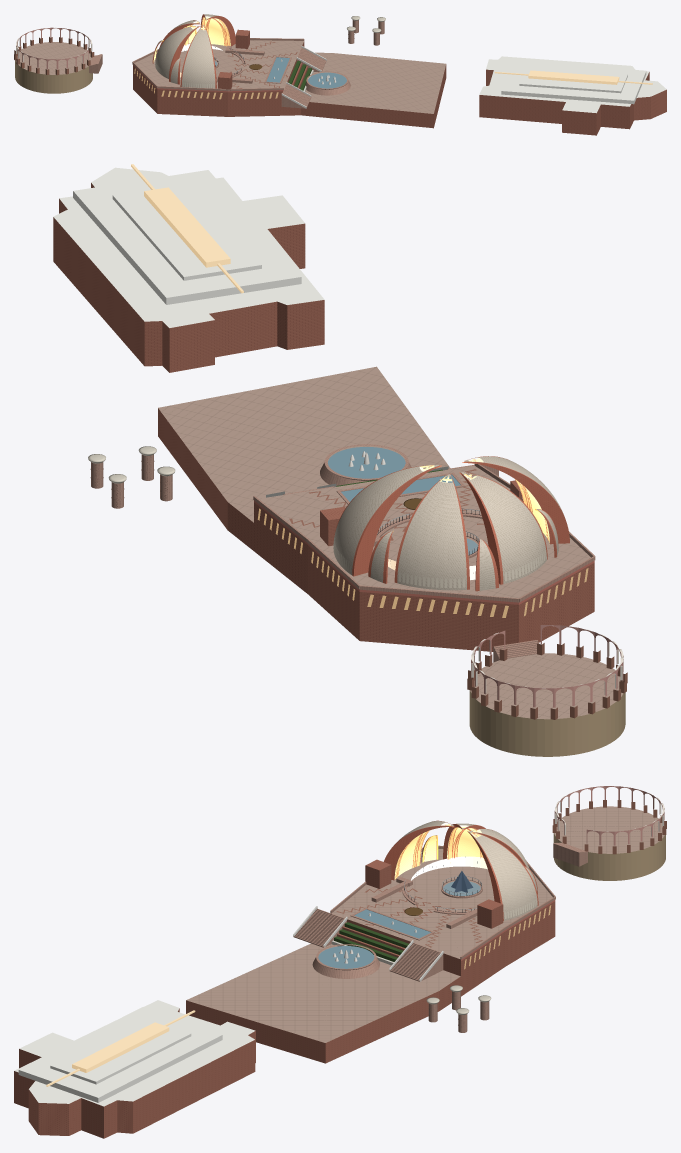
File: pakistan_monument.glb
3 views of the same model, one above another, from view 1: azimuth 30°, elevation 25°; view 2: azimuth 150°, elevation 25°; view 3: azimuth 270°, elevation 25° (orthographic). The views are drawn at different scales.
Parts seen in each view (by area): view 1: m_deck_paving, m_podium_brick, m_museum_roof, m_museum_wall, m_granite_pink, m_petal_back, m_overlook_stone, m_petal_brick, m_museum_glass, m_water, m_overlook_pier, m_petal_mural (+9 smaller); view 2: m_deck_paving, m_museum_roof, m_podium_brick, m_petal_back, m_museum_wall, m_overlook_stone, m_petal_brick, m_granite_pink, m_museum_glass, m_water, m_overlook_pier, m_overlook_arch (+4 smaller); view 3: m_deck_paving, m_museum_roof, m_podium_brick, m_museum_wall, m_granite_pink, m_petal_back, m_overlook_stone, m_water, m_petal_brick, m_museum_glass, m_petal_mural, m_hedge (+6 smaller).
Part boxes in pixels (x1,y1,x2,y2): m_deck_paving: (16, 40, 445, 113); m_podium_brick: (133, 29, 446, 128); m_museum_roof: (479, 56, 666, 113); m_museum_wall: (479, 69, 666, 135); m_granite_pink: (89, 23, 384, 108); m_petal_back: (155, 14, 218, 88); m_overlook_stone: (15, 60, 92, 93); m_petal_brick: (152, 14, 235, 88); m_museum_glass: (494, 70, 652, 84); m_water: (266, 57, 346, 88); m_overlook_pier: (14, 37, 94, 75); m_petal_mural: (153, 18, 230, 62); m_deck_paving: (158, 366, 623, 719); m_museum_roof: (53, 167, 324, 327); m_podium_brick: (158, 408, 594, 651); m_petal_back: (333, 456, 563, 590); m_museum_wall: (53, 183, 324, 372); m_overlook_stone: (469, 690, 625, 756); m_petal_brick: (334, 456, 569, 591); m_granite_pink: (90, 444, 595, 662); m_museum_glass: (131, 164, 243, 293); m_water: (328, 447, 460, 501); m_overlook_pier: (467, 643, 627, 719); m_overlook_arch: (471, 625, 623, 707); m_deck_paving: (186, 806, 664, 1042); m_museum_roof: (14, 1000, 255, 1106); m_podium_brick: (186, 859, 555, 1063); m_museum_wall: (14, 1008, 255, 1138); m_granite_pink: (293, 842, 587, 1027); m_petal_back: (397, 821, 537, 920); m_overlook_stone: (553, 833, 665, 880); m_water: (318, 909, 430, 968); m_petal_brick: (384, 820, 538, 920); m_museum_glass: (46, 1010, 195, 1086); m_petal_mural: (394, 827, 480, 879); m_hedge: (334, 922, 408, 961).
Size of the model in its own units: 202 by 29 by 174.
37 materials, 8 textured.
